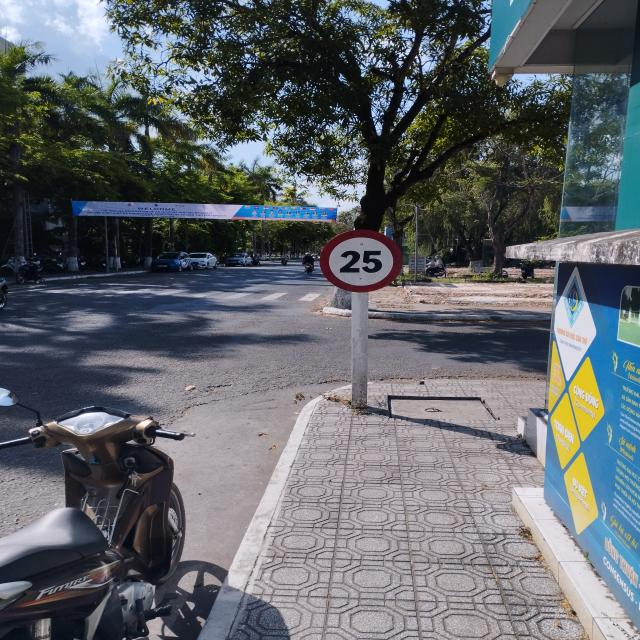Tre_Em: (319, 229, 404, 293)
